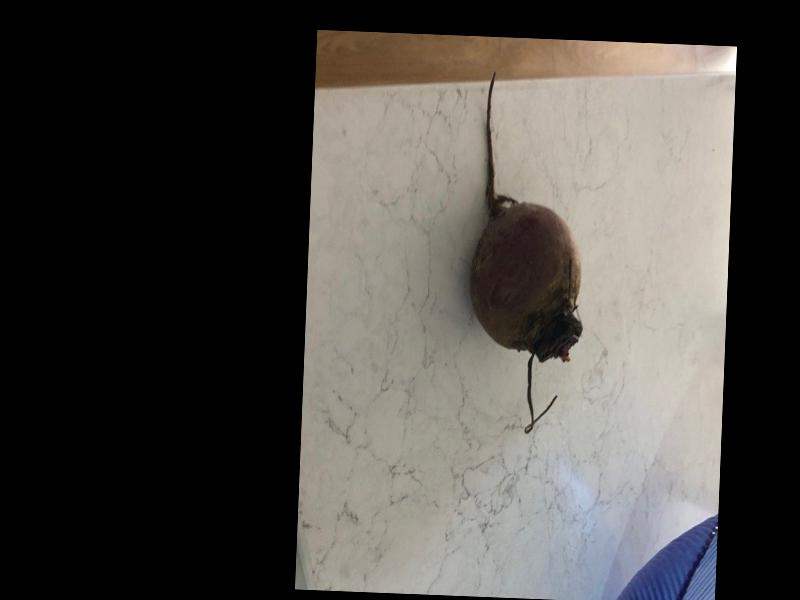Beet: (465, 67, 590, 434)
